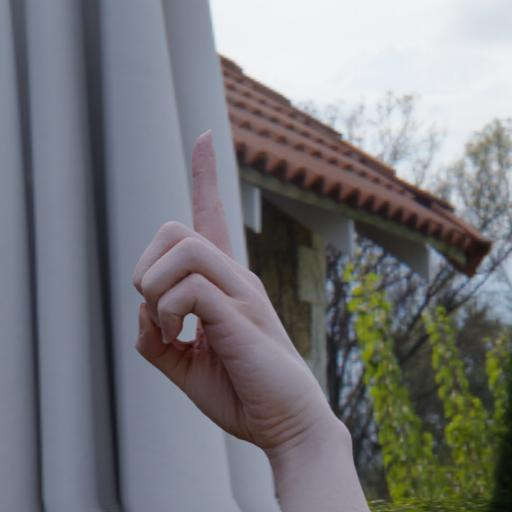D: (110, 100, 376, 512)
